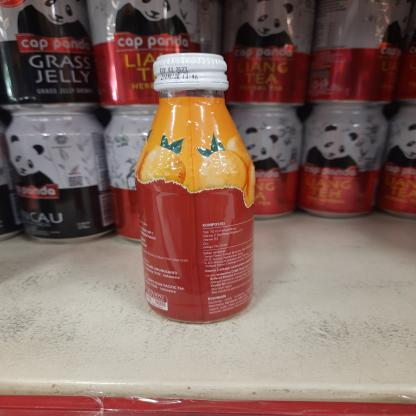keyboard: (136, 50, 263, 324)
mouse: (3, 112, 112, 240), (305, 104, 391, 225), (221, 0, 309, 108), (8, 0, 92, 108), (315, 0, 401, 104), (234, 101, 308, 217), (395, 106, 416, 221)
